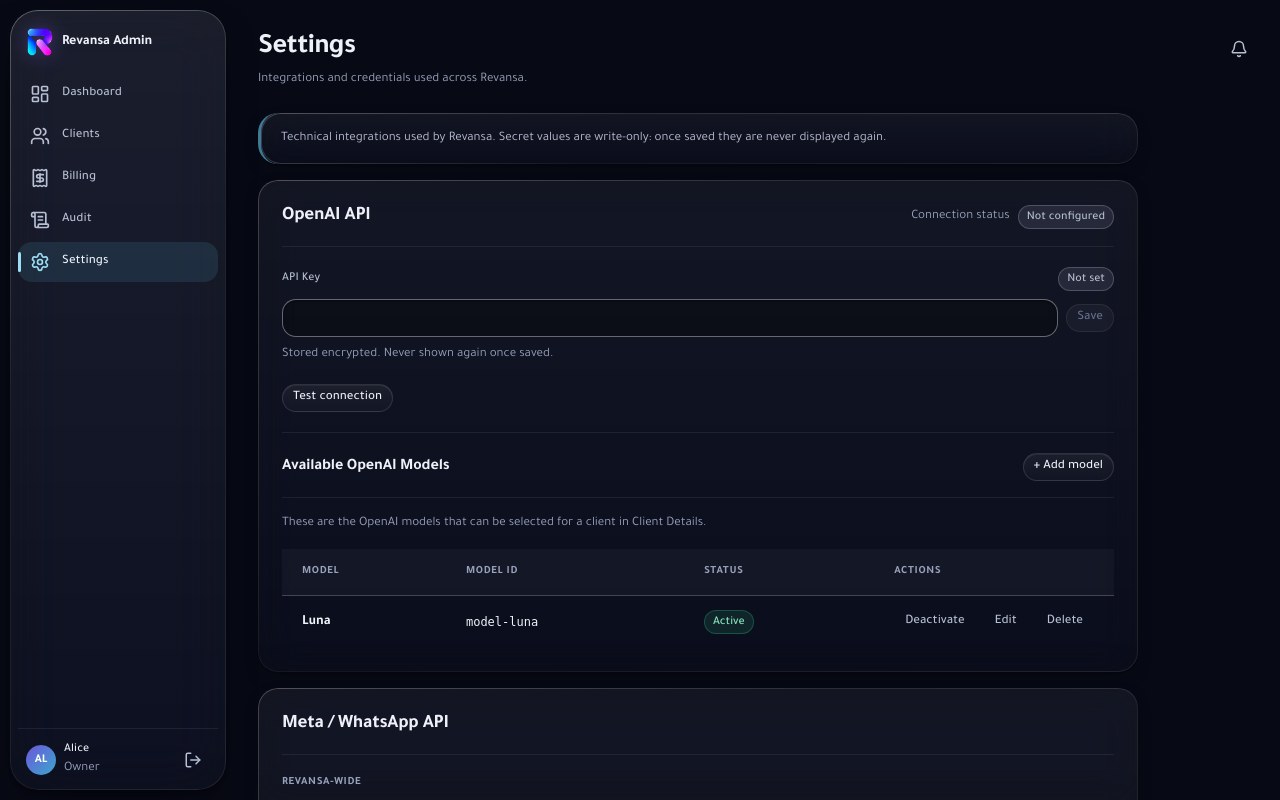
Test: AdminSettingsPage › tells which clients use a model that cannot be deleted
Click the button with aria-label "Delete Luna" at coordinates (1065, 622), box [1036,608,1094,636]
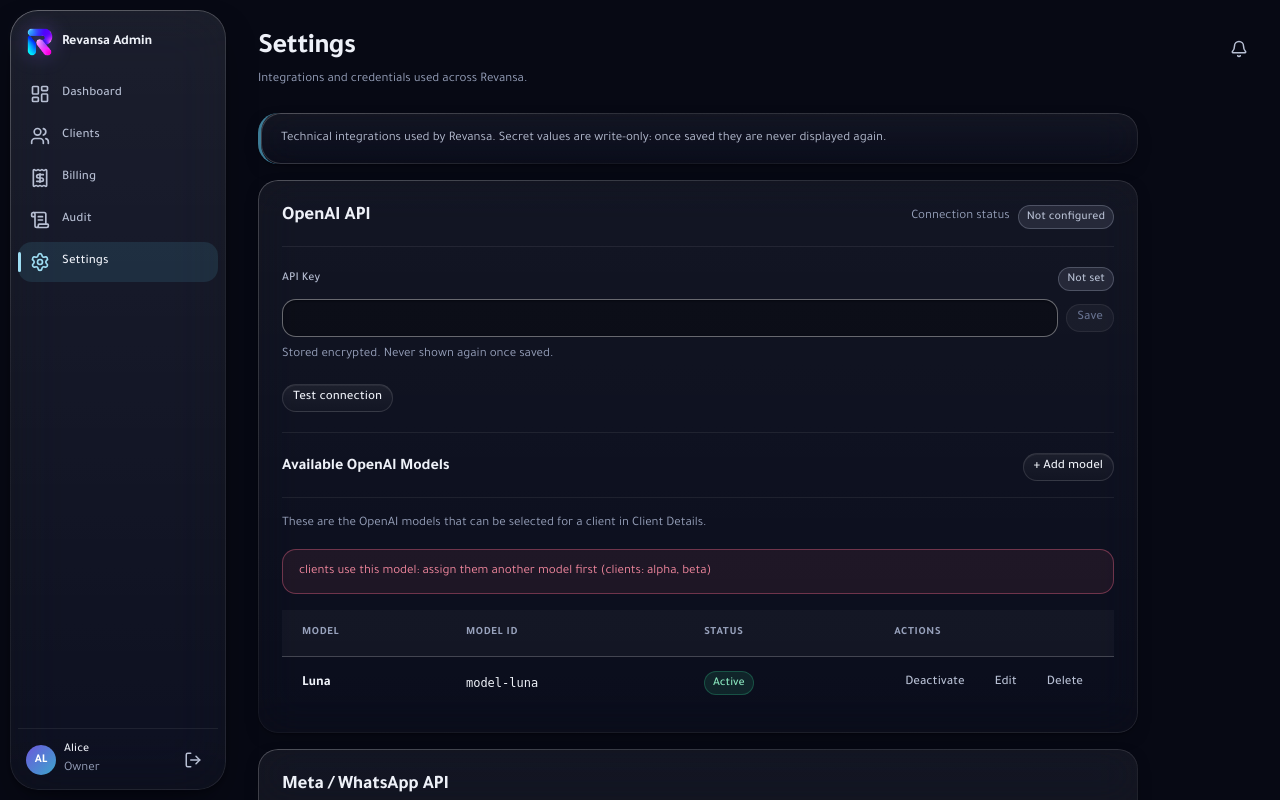
expect the column heading "Luna" is shown: met, box [282,656,446,709]
expect the text "clients use this model: assign them another model first (clients: alpha, beta)" is shown: met, box [282,549,1114,594]
